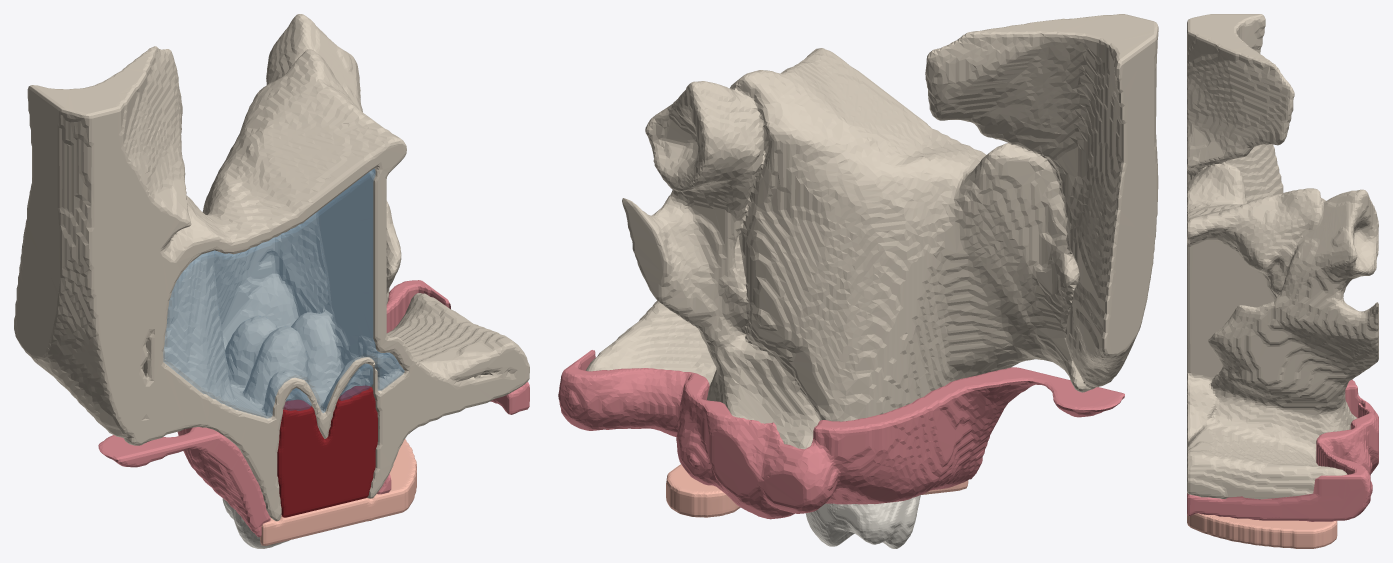
File: palatal.glb
The picture shows the model from 3 angles, left to right: view 1: azimuth 30°, elevation 25°; view 2: azimuth 150°, elevation 25°; view 3: azimuth 270°, elevation 25°; orthographic projection. The views are drawn at different scales.
Parts seen in each view (by area): view 1: bone, sinus, clot, gum, flap, teeth; view 2: bone, gum, teeth, flap; view 3: bone, gum, flap.
Boxes of the visible parts, x1,y1,x2,y2 form: bone: (14,14,529,521); sinus: (163,169,404,418); clot: (277,385,377,517); gum: (98,280,529,537); flap: (260,439,416,545); teeth: (222,498,289,548); bone: (585,14,1158,449); gum: (558,350,1124,519); teeth: (806,495,920,548); flap: (666,464,968,517); bone: (1187,14,1378,499); gum: (1187,379,1378,521); flap: (1187,493,1337,548).
Size of the model in its own units: 0.051 by 0.0547 by 0.023.
